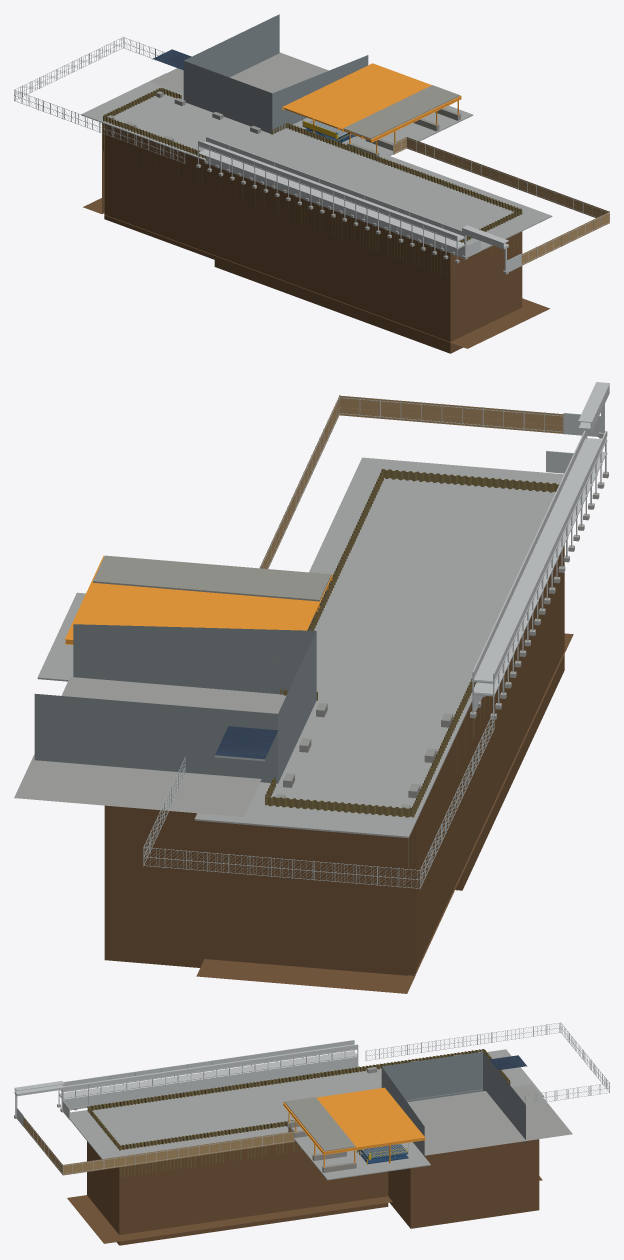
Rendered from sequence_foundation.glb.
3 renders of one model, top to bottom at view 1: azimuth 30°, elevation 25°; view 2: azimuth 150°, elevation 25°; view 3: azimuth 270°, elevation 25°, orthographic. The views are drawn at different scales.
Parts seen in each view (by area): view 1: foundation_g73_ground, foundation_g126_structure.001, foundation_g0_roof, foundation_g0_temporary.003, foundation_g126_structure, foundation_g0_temporary.001, foundation_g0_temporary.006, foundation_g0_temporary.004, foundation_g0_temporary.002, foundation_g0_interior, foundation_g0_temporary.007, foundation_g126_structure.003 (+2 smaller); view 2: foundation_g73_ground, foundation_g126_structure.001, foundation_g0_roof, foundation_g126_structure, foundation_g0_interior, foundation_g0_temporary.003, foundation_g0_temporary.001, foundation_g0_temporary.002, foundation_g0_temporary.006, foundation_g0_temporary.004, foundation_g0_temporary.007, foundation_g126_structure.003 (+4 smaller); view 3: foundation_g73_ground, foundation_g126_structure.001, foundation_g0_temporary.003, foundation_g0_interior, foundation_g0_roof, foundation_g0_temporary.001, foundation_g0_temporary.004, foundation_g0_temporary.006, foundation_g0_temporary.002, foundation_g0_temporary.007, foundation_g126_structure.003, foundation_g126_structure (+4 smaller).
Boxes of the visible parts, x1=… form: foundation_g73_ground: x1=83, y1=123, x2=549, y2=353; foundation_g126_structure.001: x1=242, y1=122, x2=552, y2=256; foundation_g0_roof: x1=183, y1=14, x2=368, y2=133; foundation_g0_temporary.003: x1=198, y1=138, x2=521, y2=271; foundation_g126_structure: x1=81, y1=86, x2=271, y2=160; foundation_g0_temporary.001: x1=282, y1=63, x2=461, y2=139; foundation_g0_temporary.006: x1=393, y1=137, x2=609, y2=265; foundation_g0_temporary.004: x1=197, y1=137, x2=609, y2=271; foundation_g0_temporary.002: x1=343, y1=85, x2=460, y2=156; foundation_g0_interior: x1=149, y1=52, x2=328, y2=93; foundation_g0_temporary.007: x1=14, y1=37, x2=185, y2=163; foundation_g126_structure.003: x1=298, y1=105, x2=473, y2=155; foundation_g73_ground: x1=104, y1=545, x2=573, y2=993; foundation_g126_structure.001: x1=309, y1=457, x2=563, y2=713; foundation_g0_roof: x1=34, y1=624, x2=316, y2=783; foundation_g126_structure: x1=259, y1=700, x2=466, y2=838; foundation_g0_interior: x1=14, y1=677, x2=286, y2=816; foundation_g0_temporary.003: x1=472, y1=382, x2=609, y2=711; foundation_g0_temporary.001: x1=65, y1=556, x2=332, y2=640; foundation_g0_temporary.002: x1=93, y1=555, x2=331, y2=630; foundation_g0_temporary.006: x1=260, y1=395, x2=563, y2=568; foundation_g0_temporary.004: x1=259, y1=391, x2=609, y2=714; foundation_g0_temporary.007: x1=143, y1=709, x2=494, y2=889; foundation_g126_structure.003: x1=37, y1=592, x2=85, y2=681; foundation_g73_ground: x1=67, y1=1139, x2=542, y2=1245; foundation_g126_structure.001: x1=70, y1=1072, x2=369, y2=1159; foundation_g0_temporary.003: x1=14, y1=1041, x2=357, y2=1126; foundation_g0_interior: x1=407, y1=1084, x2=572, y2=1155; foundation_g0_roof: x1=381, y1=1051, x2=525, y2=1156; foundation_g0_temporary.001: x1=283, y1=1087, x2=424, y2=1152; foundation_g0_temporary.004: x1=14, y1=1040, x2=358, y2=1175; foundation_g0_temporary.006: x1=23, y1=1116, x2=293, y2=1175; foundation_g0_temporary.002: x1=284, y1=1097, x2=356, y2=1172; foundation_g0_temporary.007: x1=365, y1=1022, x2=609, y2=1103; foundation_g126_structure.003: x1=294, y1=1136, x2=430, y2=1180; foundation_g126_structure: x1=356, y1=1049, x2=532, y2=1089.
Size of the model in its own units: 74.45 by 31.34 by 128.
765 materials, 1 textured.
